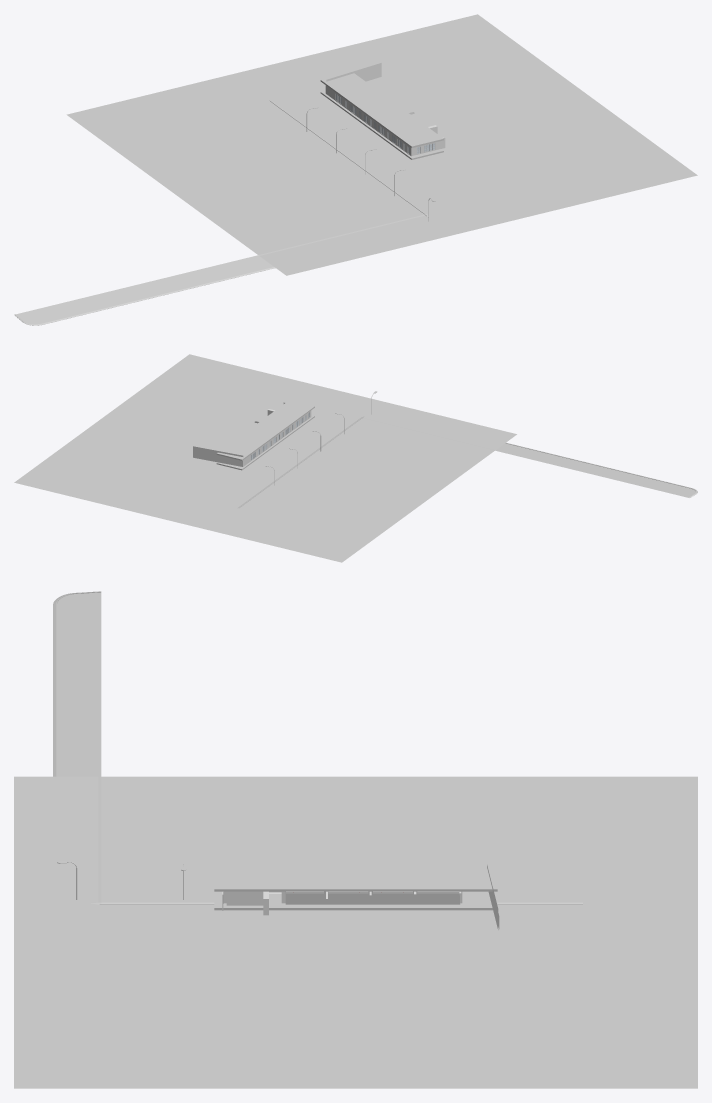
File: library top room.fbx
The picture shows the model from 3 angles, top to bottom: view 1: azimuth 30°, elevation 25°; view 2: azimuth 150°, elevation 25°; view 3: azimuth 270°, elevation 25°; orthographic projection. The views are drawn at different scales.
Visible parts, largest first — view 1: san trruong, le duong, tran nha, tuong, san nha; view 2: san trruong, le duong, tran nha, tuong, san nha; view 3: san trruong, le duong, tran nha, san nha, cua kinh, tuong.
Boxes of the visible parts, x1,y1,x2,y2 form: san trruong: [66, 14, 697, 275]; le duong: [14, 100, 428, 325]; tran nha: [320, 73, 443, 147]; tuong: [325, 63, 445, 156]; san nha: [320, 90, 443, 159]; san trruong: [14, 354, 516, 562]; le duong: [237, 416, 697, 510]; tran nha: [216, 400, 314, 460]; tuong: [193, 402, 311, 466]; san nha: [216, 415, 314, 470]; san trruong: [14, 776, 697, 1088]; le duong: [53, 591, 582, 904]; tran nha: [214, 865, 497, 891]; san nha: [214, 891, 497, 910]; cua kinh: [285, 891, 460, 904]; tuong: [222, 865, 499, 929].
Bounding box in the file's own units: 22204 × 1320 × 12910.
